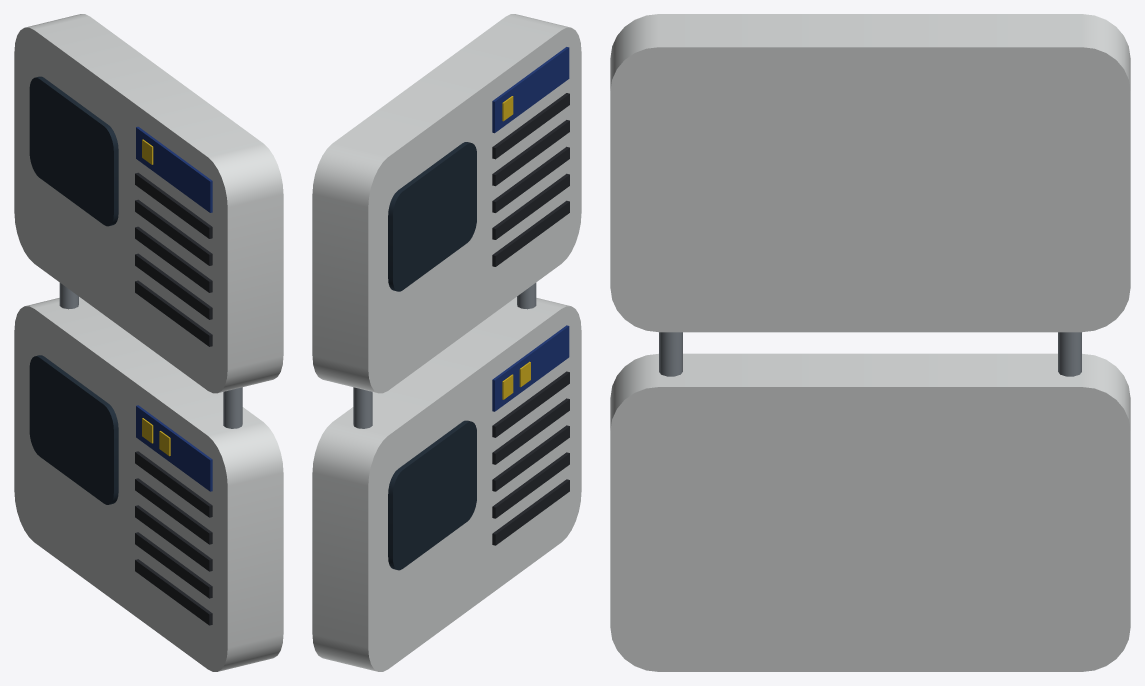
The model's file is mo4_steril.obj.
3 views of the same model, side by side, from view 1: azimuth 30°, elevation 25°; view 2: azimuth 150°, elevation 25°; view 3: azimuth 270°, elevation 25° (orthographic). The views are drawn at different scales.
Visible parts, largest first — view 1: mo4_steril; view 2: mo4_steril; view 3: mo4_steril.
Boxes of the visible parts, <box> form: mo4_steril: <box>14,14,283,671</box>; mo4_steril: <box>312,14,581,671</box>; mo4_steril: <box>610,14,1130,671</box>.
Bounding box in the file's own units: 0.141 × 1.14 × 0.86.
